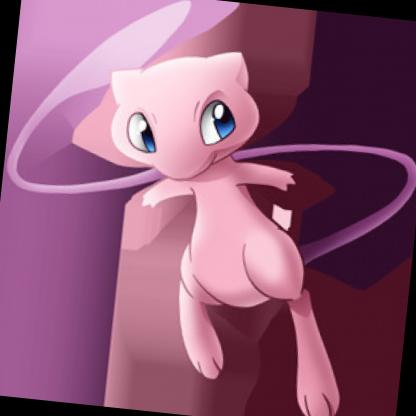Mew: (1, 30, 416, 416)
